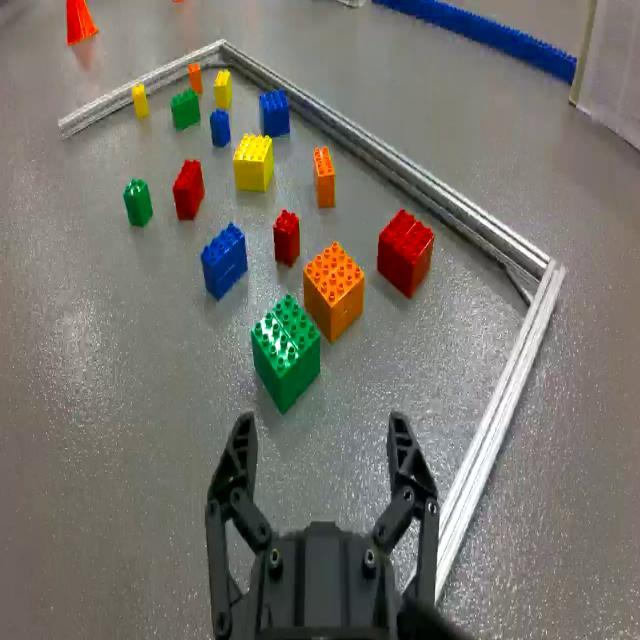block: (234, 133, 274, 190), (215, 70, 231, 111), (132, 82, 148, 120)
blue: (202, 224, 248, 304), (258, 86, 290, 133), (209, 109, 232, 150)
green: (252, 294, 320, 414), (124, 178, 153, 224), (170, 89, 200, 129)
metal barrier: (60, 40, 570, 611)
orange: (304, 242, 364, 341), (314, 144, 336, 208), (189, 61, 203, 91)
red goal: (378, 208, 434, 299), (174, 159, 205, 222), (275, 208, 301, 266)
river: (373, 0, 574, 87)
storage cube: (570, 0, 640, 153), (336, 0, 368, 11)
